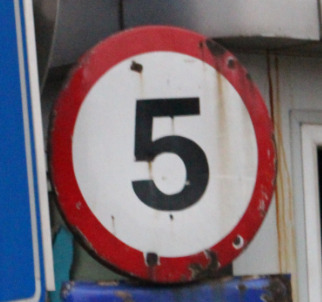speed_limit_5: (48, 25, 277, 282)
